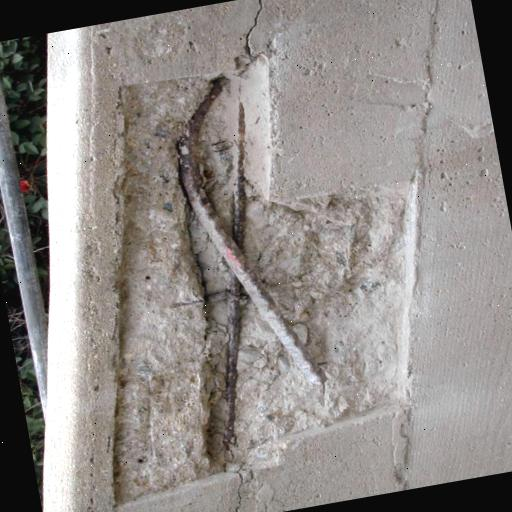spalling: (116, 61, 404, 505), (229, 0, 279, 55)
